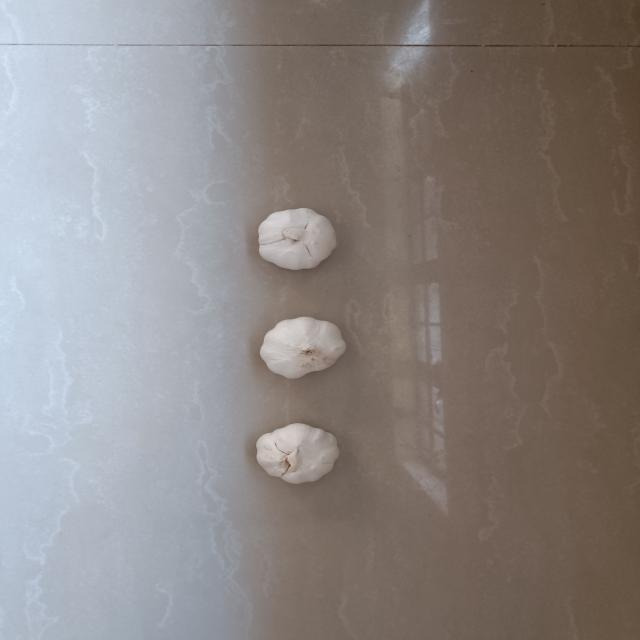garlic: (253, 420, 345, 493), (257, 314, 348, 381), (255, 205, 336, 273)
